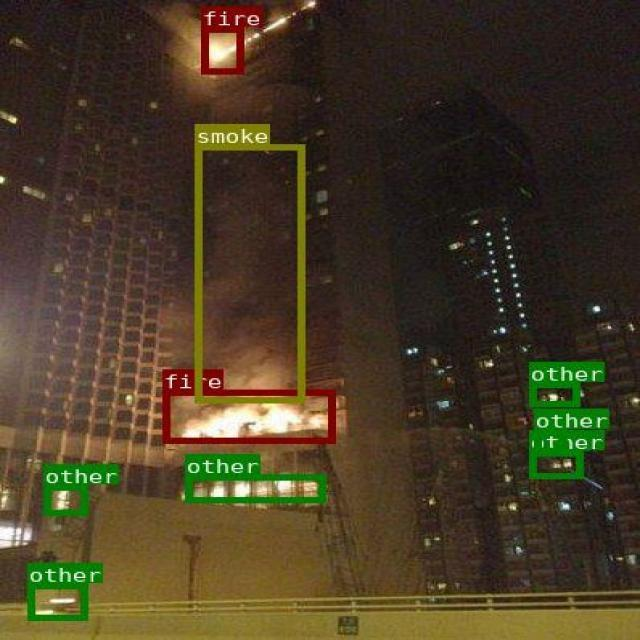fire: (161, 389, 334, 442), (200, 26, 242, 72)
smoke: (194, 143, 303, 402)
